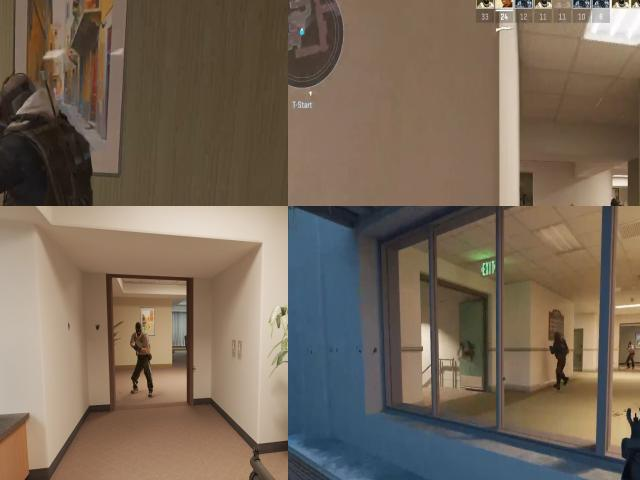CT: (552, 332, 569, 373), (607, 198, 629, 206)
CT-Head: (0, 51, 94, 206), (0, 62, 44, 144), (550, 331, 564, 345), (609, 199, 622, 206)
T: (127, 321, 156, 395), (627, 340, 635, 360)
T-Head: (132, 321, 146, 338)
